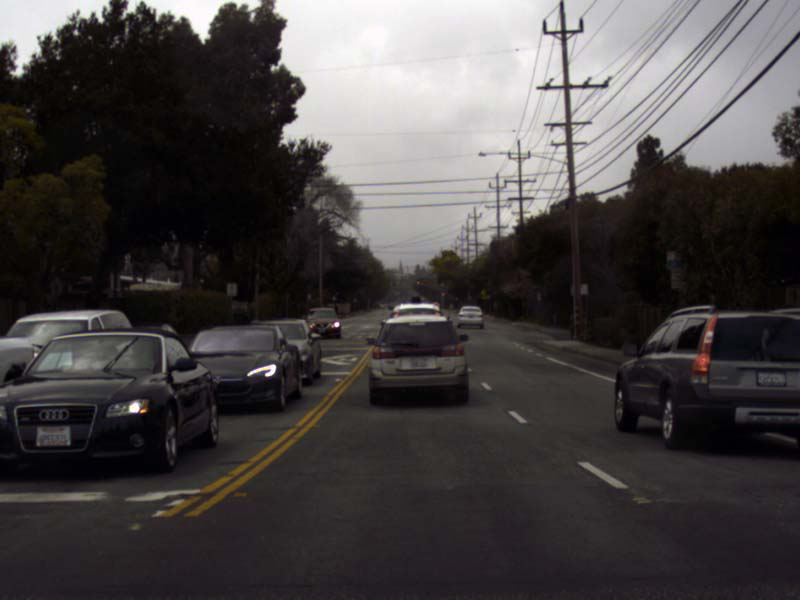Red: (416, 279, 420, 286), (441, 291, 445, 298)
